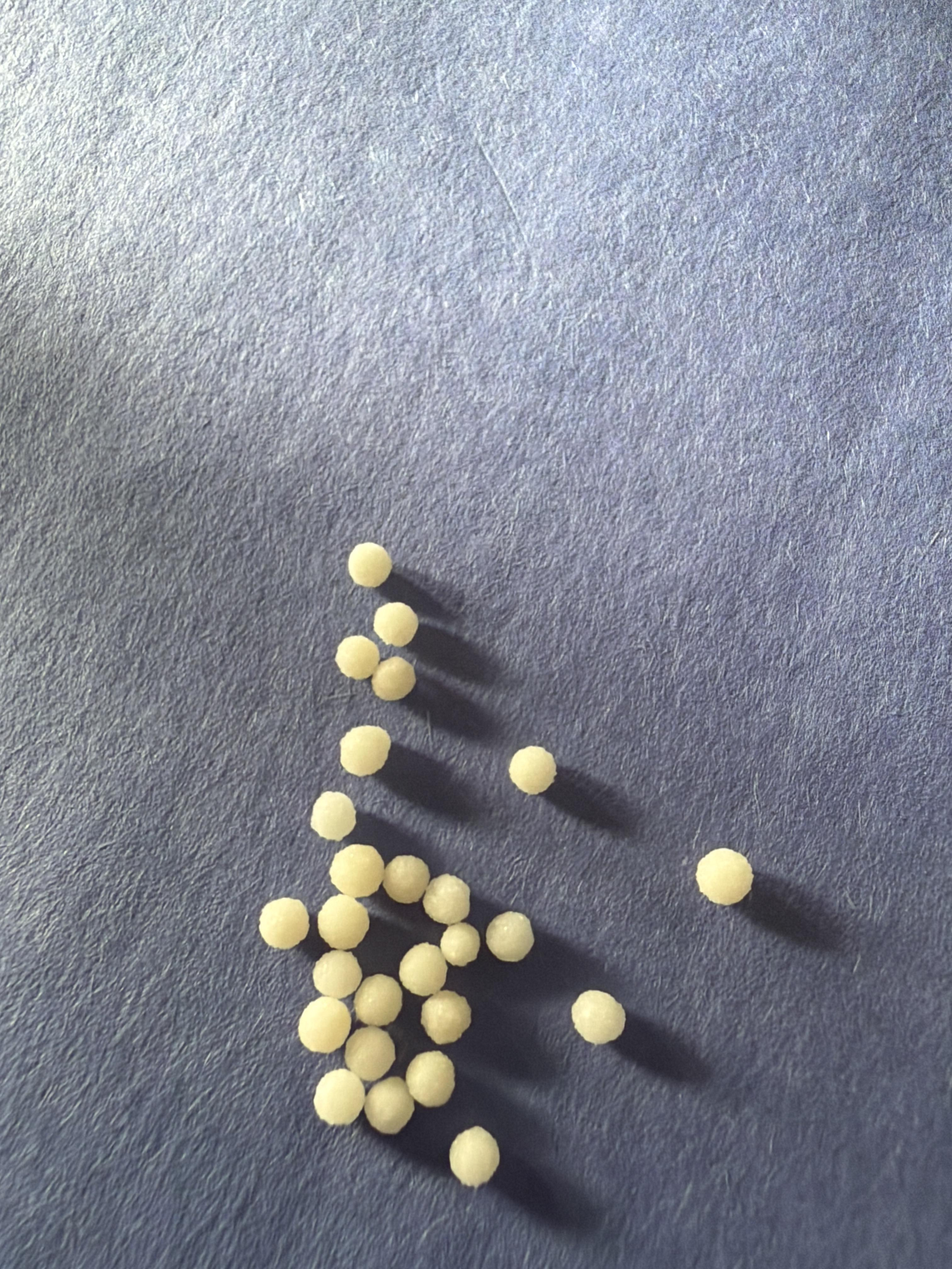pill: (696, 848, 753, 905), (298, 996, 351, 1053), (450, 1126, 499, 1187), (329, 844, 384, 898), (571, 990, 625, 1044), (405, 1050, 455, 1108), (364, 1076, 414, 1134), (314, 1069, 365, 1125), (344, 1026, 395, 1082), (318, 894, 369, 949), (421, 990, 470, 1045), (259, 898, 309, 949), (340, 725, 390, 776), (354, 974, 402, 1027), (399, 943, 447, 996), (485, 911, 534, 962), (313, 950, 362, 999), (423, 874, 470, 925), (310, 791, 356, 841), (382, 857, 430, 904), (509, 746, 556, 794), (373, 602, 418, 647), (371, 656, 415, 701), (335, 636, 380, 680), (348, 542, 392, 587), (439, 922, 480, 967)
